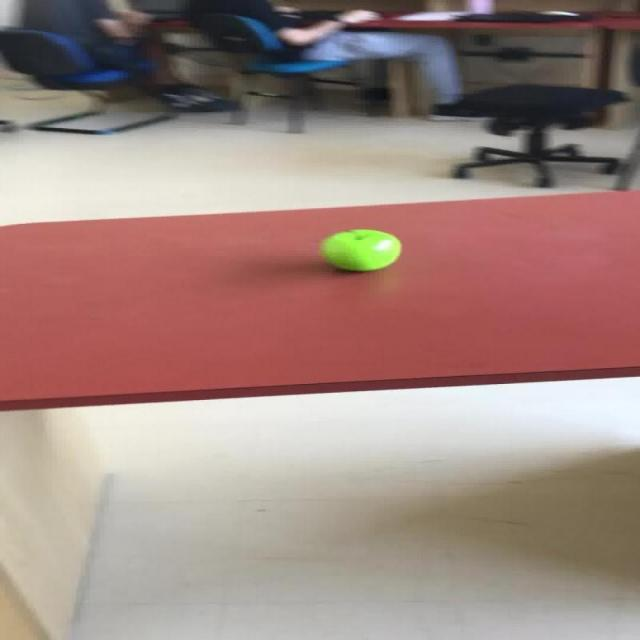Apple: (318, 228, 401, 271)
